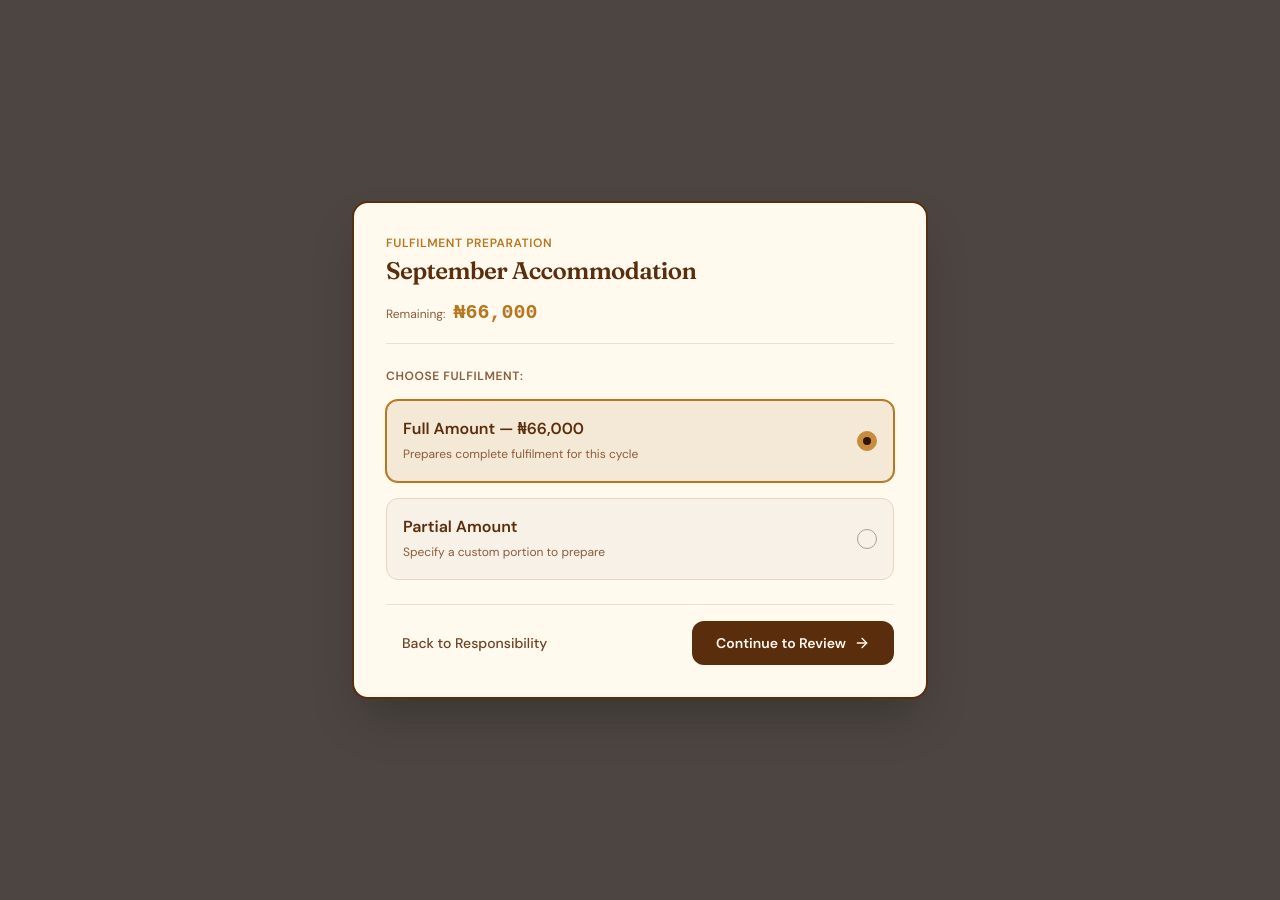
Test: H4D-FUNC-004: Accommodation Fulfilment Intent Preparation › 3. rejects zero as an invalid fulfilment amount
Click the text "Partial Amount" at (460, 526), box [403,516,518,537]
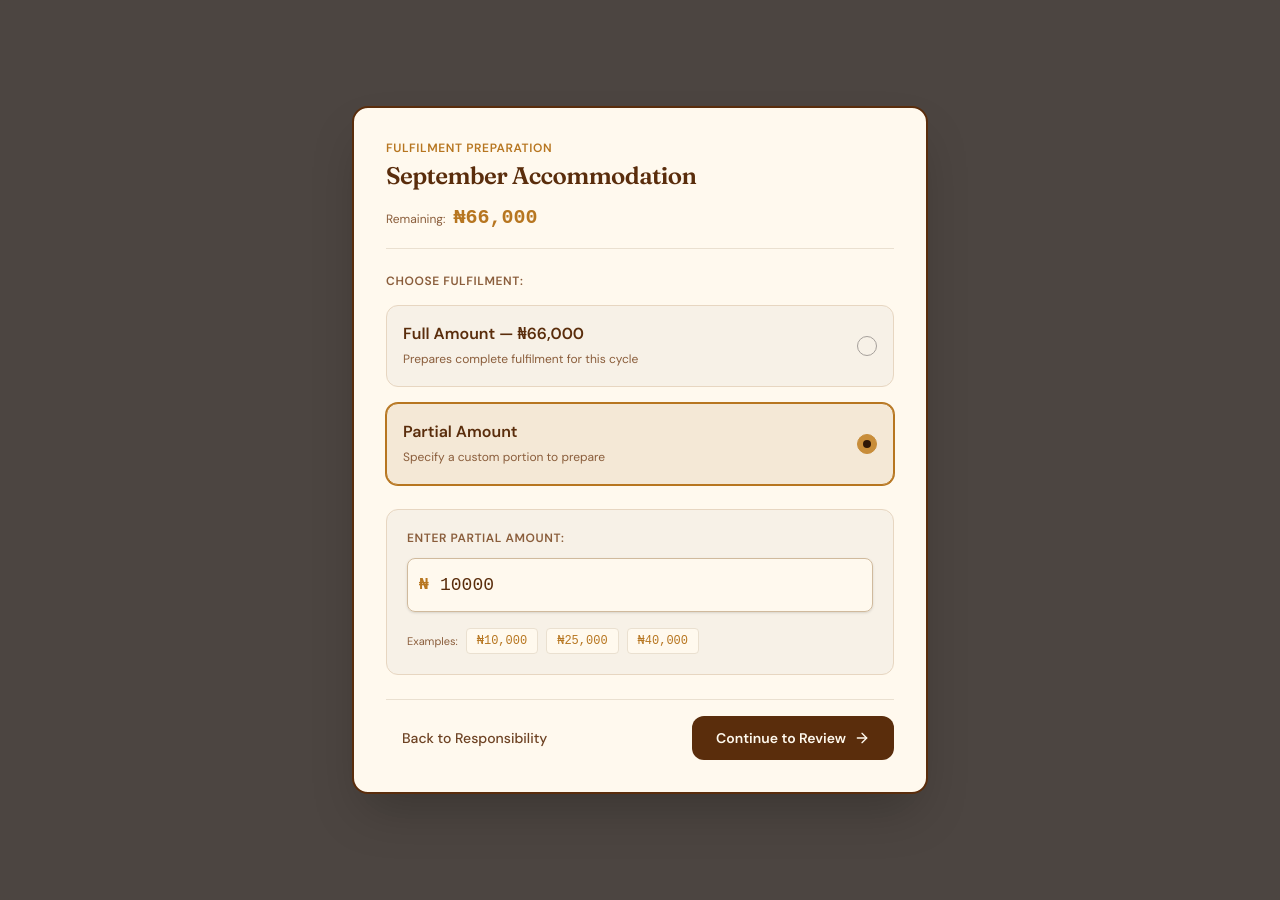
Replace the text in the field labelled "Partial Amount" with "0" at (640, 585), box [407,558,873,612]
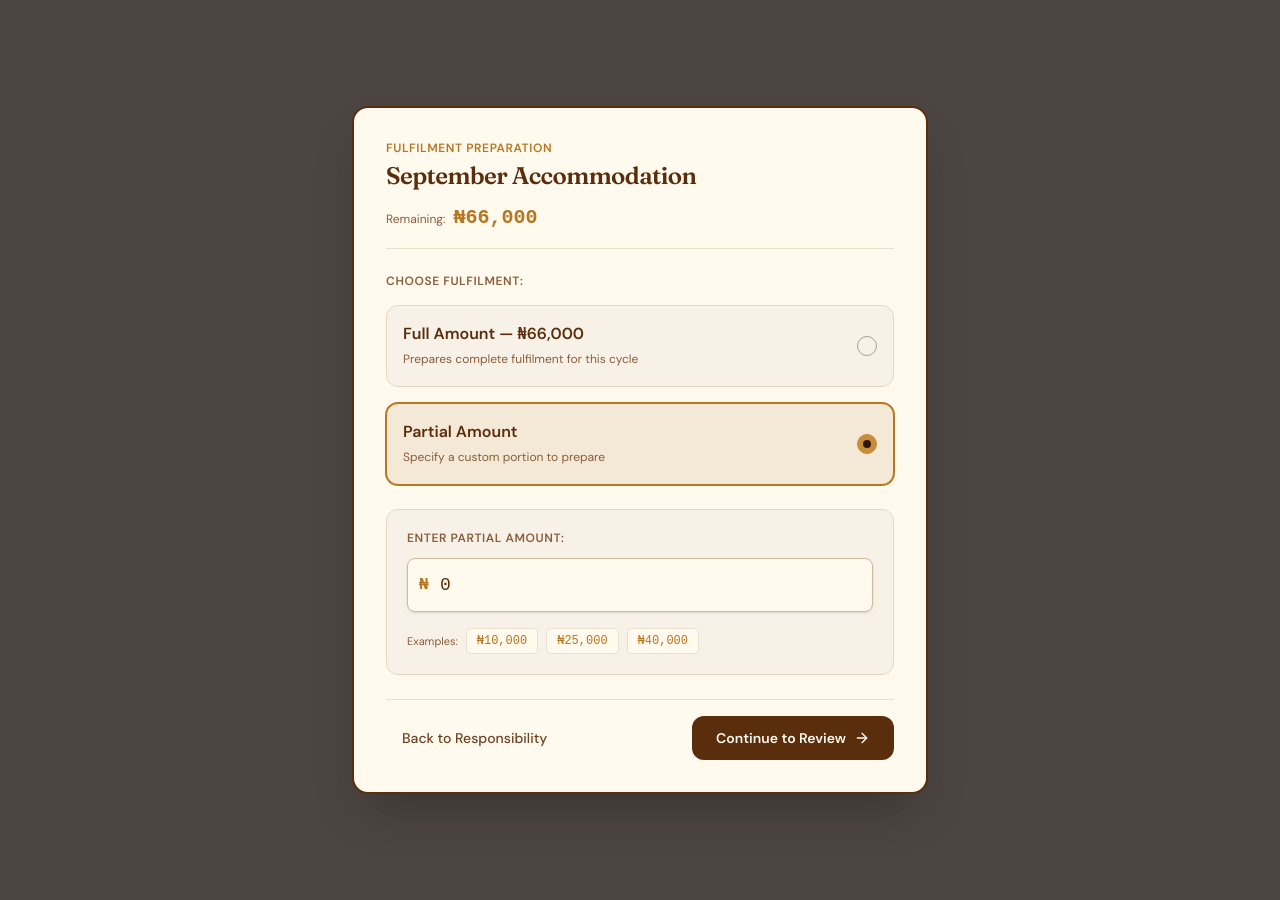
Click the button "Continue to Review" at (793, 738), box [692,716,894,760]
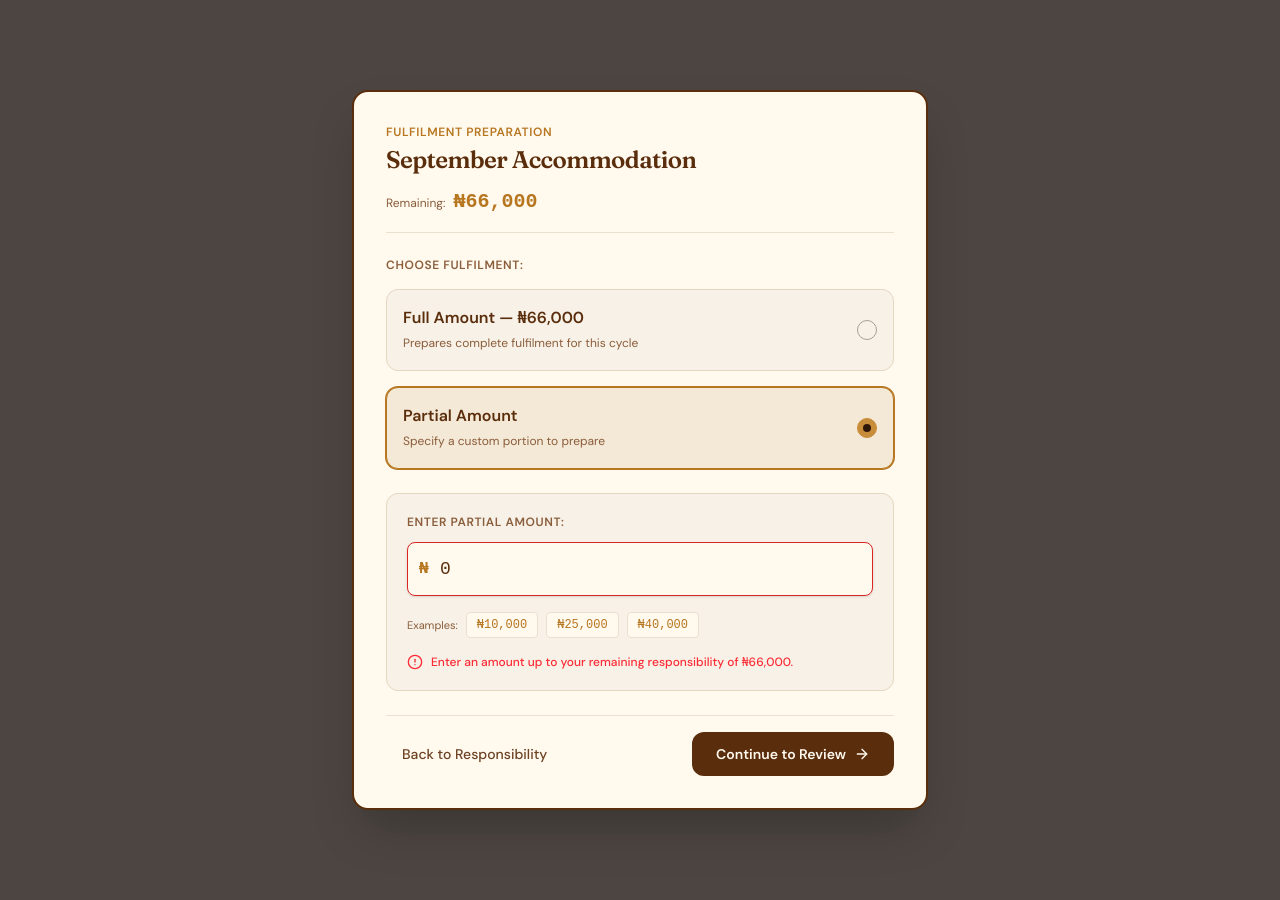
Check: the message reads "Enter an amount up to your remaining responsibility of ₦66,000.", box [431,654,793,670]
